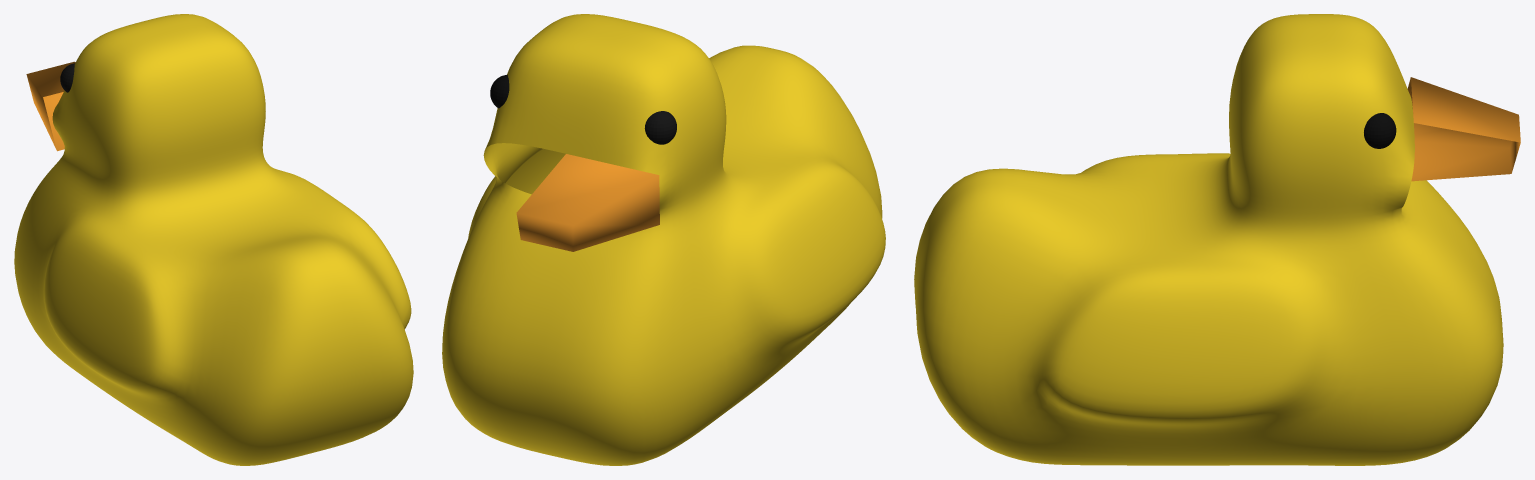
The model's file is duck.glb.
3 views of the same model, side by side, from view 1: azimuth 30°, elevation 25°; view 2: azimuth 150°, elevation 25°; view 3: azimuth 270°, elevation 25° (orthographic). The views are drawn at different scales.
Visible parts, largest first — view 1: Cube, Cube.001; view 2: Cube, Cube.001, Sphere.001, Sphere; view 3: Cube, Cube.001, Sphere.
Part boxes in pixels (x1,y1,x2,y2): Cube: [14, 14, 413, 465]; Cube.001: [26, 61, 75, 151]; Cube: [442, 14, 885, 465]; Cube.001: [516, 154, 659, 251]; Sphere.001: [644, 111, 676, 144]; Sphere: [490, 75, 509, 108]; Cube: [914, 14, 1503, 465]; Cube.001: [1407, 77, 1520, 181]; Sphere: [1364, 113, 1396, 148].
Size of what is drawn, in the model's own units: 3.2 by 3.64 by 4.97.
